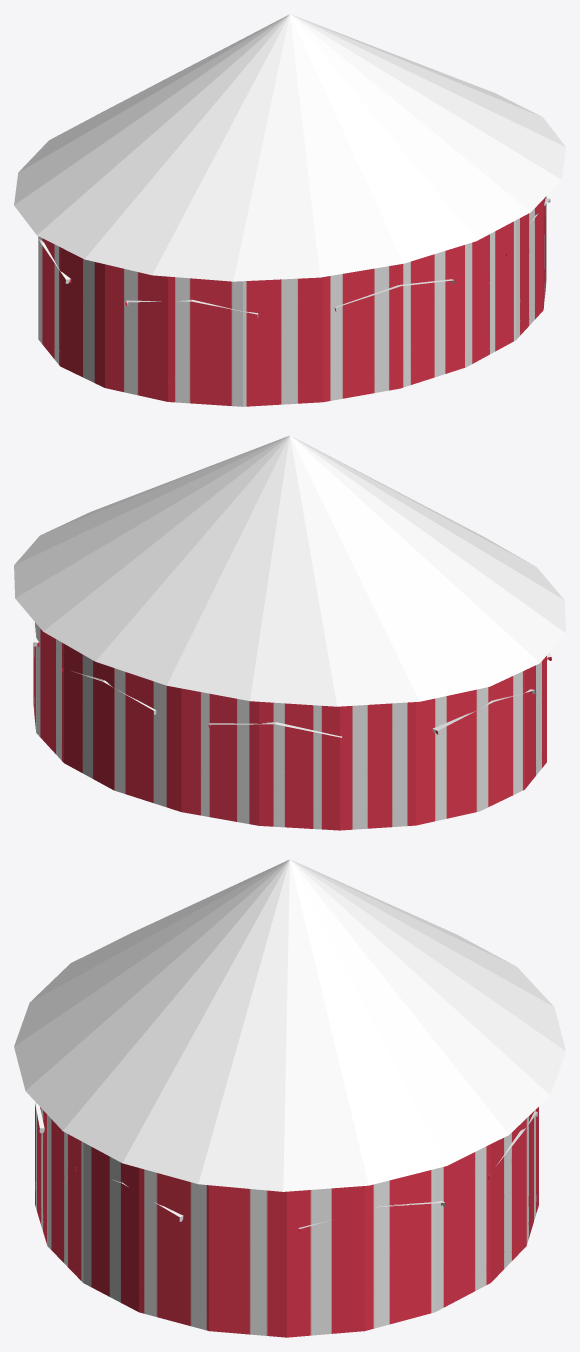
Rendered from ground5.fbx.
3 views of the same model, one above another, from view 1: azimuth 30°, elevation 25°; view 2: azimuth 150°, elevation 25°; view 3: azimuth 270°, elevation 25° (orthographic). The views are drawn at different scales.
Parts seen in each view (by area): view 1: polySurface219; view 2: polySurface219; view 3: polySurface219.
Part boxes in pixels (bbox=[...]): polySurface219: bbox=[14, 14, 565, 406]; polySurface219: bbox=[14, 435, 565, 830]; polySurface219: bbox=[14, 859, 565, 1337].
Bounding box in the file's own units: 136 × 76.87 × 111.
